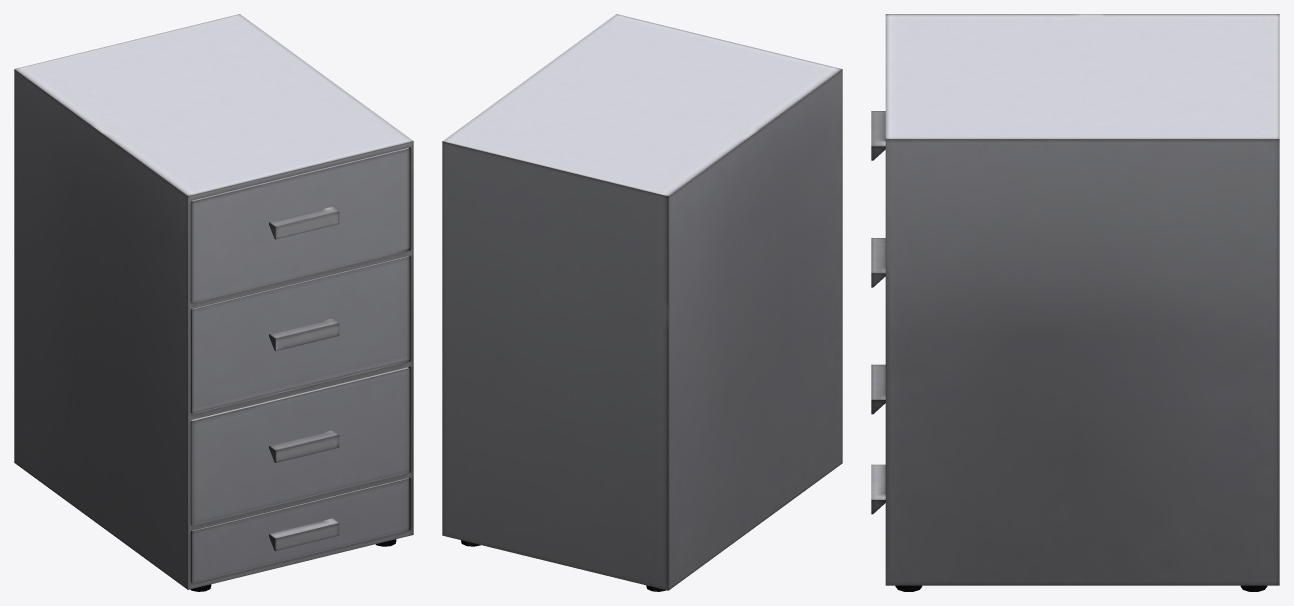
Rendered from Drawer.fbx.
The picture shows the model from 3 angles, left to right: view 1: azimuth 30°, elevation 25°; view 2: azimuth 150°, elevation 25°; view 3: azimuth 270°, elevation 25°; orthographic projection. The views are drawn at different scales.
Parts seen in each view (by area): view 1: Drawer_Shell, Drawer3, Drawer2, Drawer1, Drawer4; view 2: Drawer_Shell; view 3: Drawer_Shell, Drawer3, Drawer4, Drawer1, Drawer2.
Part boxes in pixels (<box>): Drawer_Shell: <box>14,14,413,591</box>; Drawer3: <box>191,367,409,524</box>; Drawer2: <box>191,256,409,413</box>; Drawer1: <box>191,148,409,301</box>; Drawer4: <box>191,478,409,582</box>; Drawer_Shell: <box>442,14,842,591</box>; Drawer_Shell: <box>885,14,1279,591</box>; Drawer3: <box>871,364,885,414</box>; Drawer4: <box>871,464,885,514</box>; Drawer1: <box>871,111,885,160</box>; Drawer2: <box>871,238,885,287</box>.
Size of the model in its own units: 60 by 103 by 82.92.
